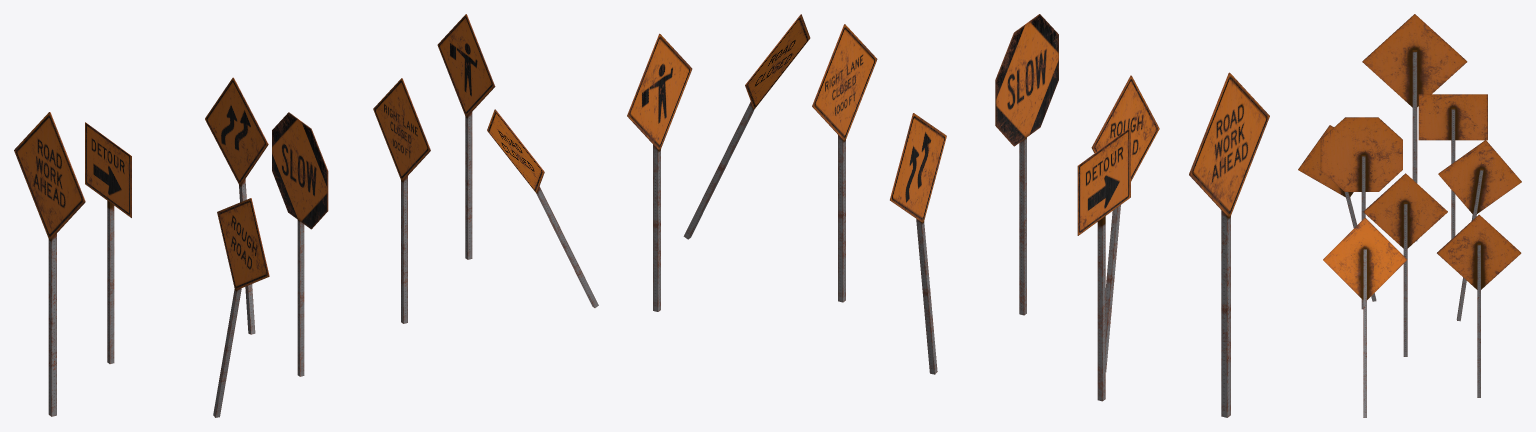
Rendered from Signset.fbx.
The picture shows the model from 3 angles, left to right: view 1: azimuth 30°, elevation 25°; view 2: azimuth 150°, elevation 25°; view 3: azimuth 270°, elevation 25°; orthographic projection. The views are drawn at different scales.
Visible parts, largest first — view 1: pCube46, pCube51, pCube42, pCube43, pCube41, pCube45, pCube49, pCube40, pCube111, pCube105, pCube118, pCube110 (+3 smaller); view 2: pCube46, pCube51, pCube43, pCube41, pCube49, pCube42, pCube45, pCube40, pCube111, pCube105, pCube118, pCube108 (+4 smaller); view 3: pCube51, pCube46, pCube40, pCube43, pCube41, pCube49, pCube42, pCube45, pCube111, pCube108, pCube113, pCube110 (+3 smaller).
Boxes of the visible parts, x1,y1,x2,y2 form: pCube46: (14, 112, 85, 240); pCube51: (272, 112, 328, 229); pCube42: (205, 77, 268, 185); pCube43: (373, 78, 430, 181); pCube41: (437, 14, 495, 117); pCube45: (217, 198, 269, 290); pCube49: (85, 122, 131, 217); pCube40: (487, 109, 544, 193); pCube111: (48, 233, 56, 416); pCube105: (107, 201, 114, 363); pCube118: (297, 220, 304, 376); pCube110: (465, 112, 472, 259); pCube46: (1189, 72, 1269, 218); pCube51: (995, 14, 1058, 146); pCube43: (812, 24, 877, 141); pCube41: (627, 33, 692, 150); pCube49: (1077, 127, 1130, 235); pCube42: (890, 113, 946, 222); pCube45: (1091, 75, 1159, 181); pCube40: (745, 14, 810, 109); pCube111: (1221, 210, 1230, 417); pCube105: (1097, 216, 1105, 401); pCube118: (1019, 137, 1026, 315); pCube108: (838, 135, 845, 302); pCube51: (1320, 117, 1402, 191); pCube46: (1362, 14, 1467, 107); pCube40: (1323, 217, 1407, 299); pCube43: (1363, 173, 1447, 248); pCube41: (1437, 214, 1521, 289); pCube49: (1418, 94, 1487, 140); pCube42: (1438, 140, 1521, 213); pCube45: (1298, 125, 1353, 197); pCube111: (1412, 50, 1417, 241); pCube108: (1403, 202, 1407, 356); pCube113: (1363, 249, 1366, 417); pCube110: (1477, 243, 1480, 397).
Size of the model in its own units: 6.23 by 3.16 by 3.69.
